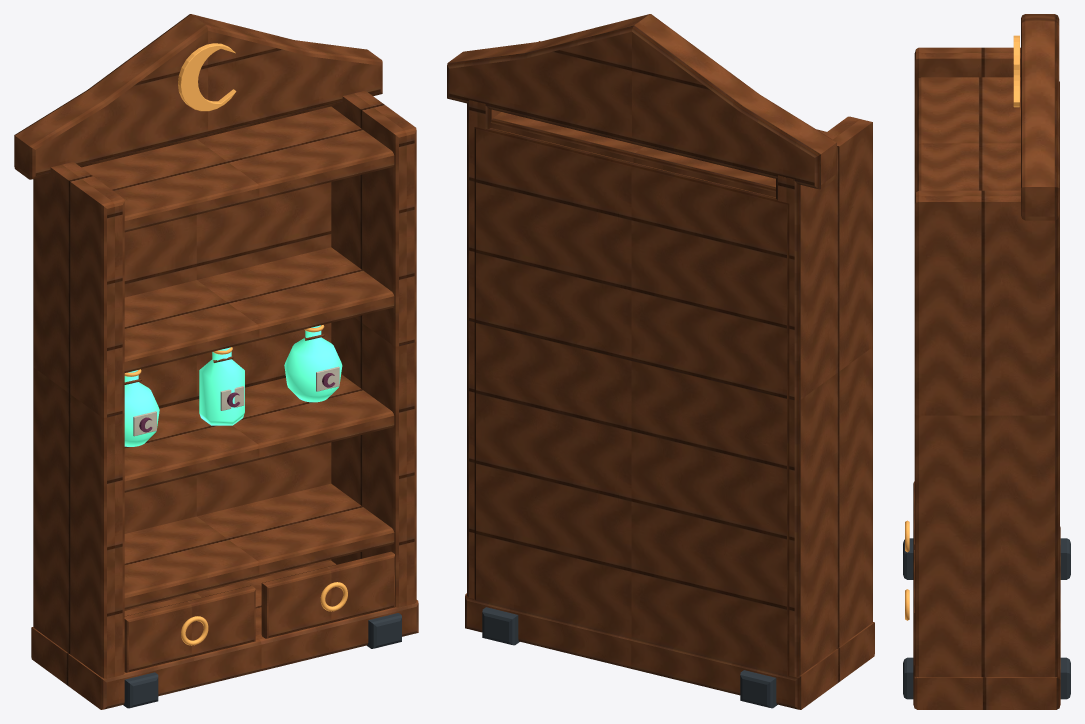
File: hollowwick-halloween-apothecary-cabinet-db23c916__21602.glb
3 renders of one model, left to right at view 1: azimuth 30°, elevation 25°; view 2: azimuth 150°, elevation 25°; view 3: azimuth 270°, elevation 25°, orthographic. The views are drawn at different scales.
Visible parts, largest first — view 1: apothecary-cabinet; view 2: apothecary-cabinet; view 3: apothecary-cabinet.
Part boxes in pixels (box(x1,y1,x2,y2)): apothecary-cabinet: box(14, 14, 418, 709); apothecary-cabinet: box(447, 14, 874, 709); apothecary-cabinet: box(903, 14, 1070, 709).
Size of the model in its own units: 1.39 by 2.29 by 0.57.
6 materials, 3 textured.
